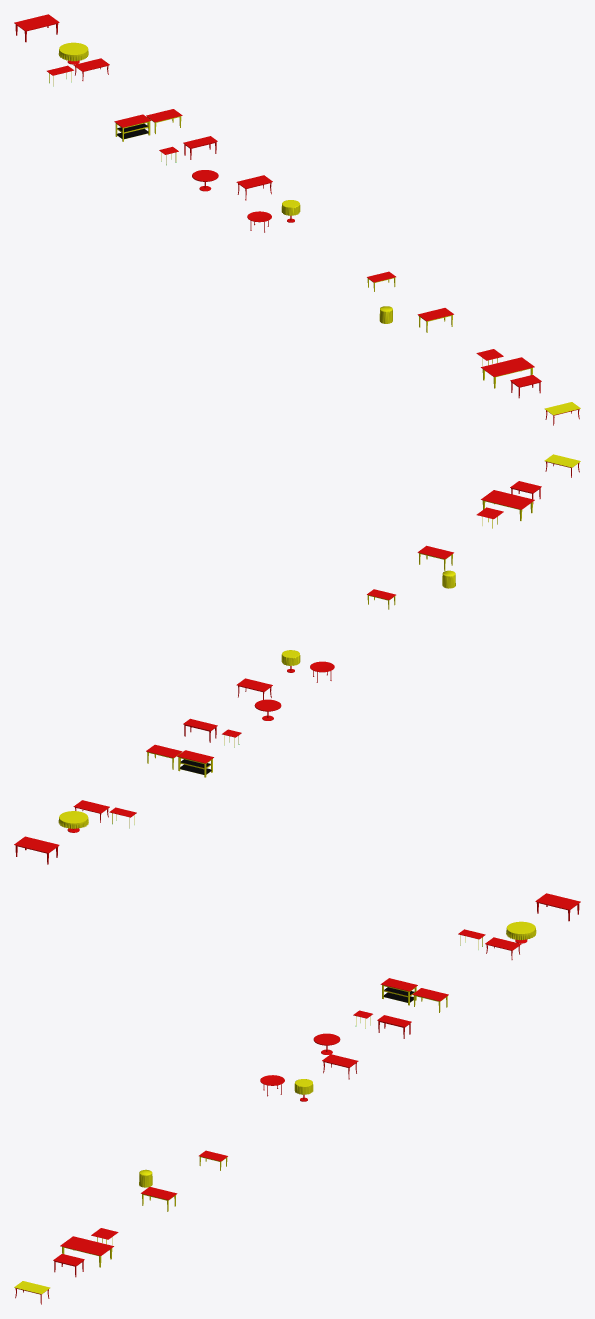
The model's file is dining_tables_grp.fbx.
The picture shows the model from 3 angles, top to bottom: view 1: azimuth 30°, elevation 25°; view 2: azimuth 150°, elevation 25°; view 3: azimuth 330°, elevation 25°; orthographic projection.
Visible parts, largest first — view 1: dining_table_204; view 2: dining_table_204; view 3: dining_table_204.
Boxes of the visible parts, x1,y1,x2,y2 form: dining_table_204: (481,357,534,388); dining_table_204: (481,490,534,520); dining_table_204: (60,1236,113,1267).
Size of the model in its own units: 423 by 106 by 5918.
